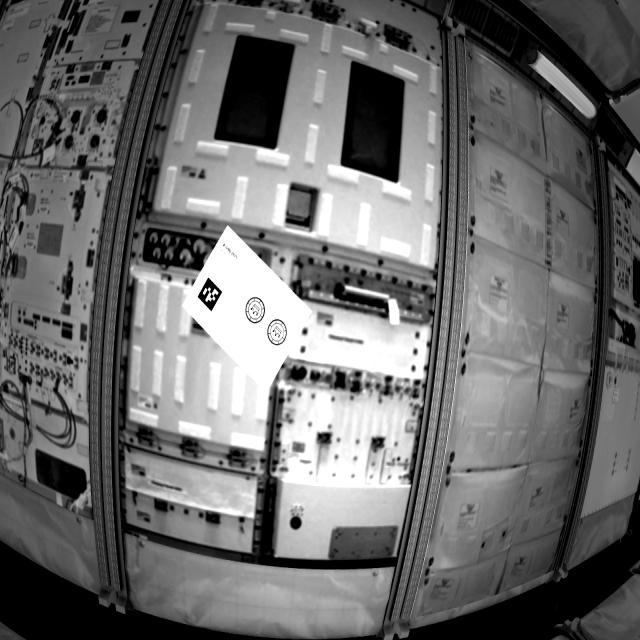coin: (266, 317, 290, 351), (245, 292, 267, 327)
